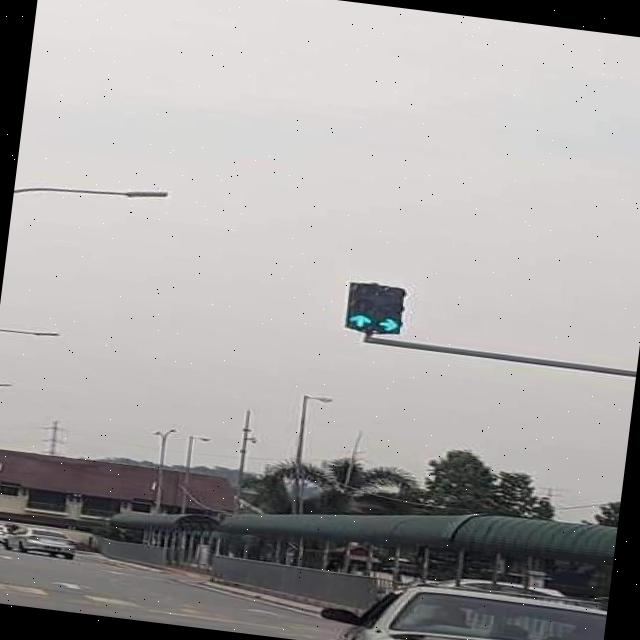green_light: (344, 280, 380, 332), (374, 284, 408, 332)
